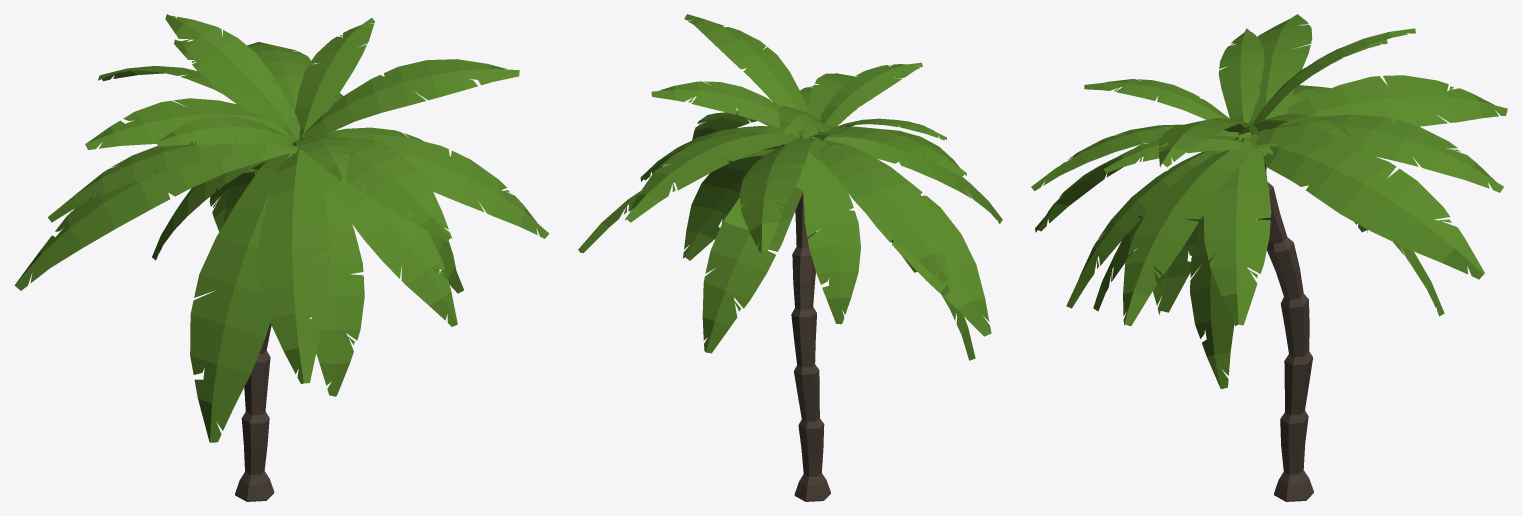
Rendered from Palmera2.fbx.
The picture shows the model from 3 angles, left to right: view 1: azimuth 30°, elevation 25°; view 2: azimuth 150°, elevation 25°; view 3: azimuth 270°, elevation 25°; orthographic projection. The views are drawn at different scales.
Visible parts, largest first — view 1: Palmera2; view 2: Palmera2; view 3: Palmera2.
Part boxes in pixels (<box>): Palmera2: <box>14,14,549,501</box>; Palmera2: <box>578,14,1002,501</box>; Palmera2: <box>1031,14,1507,501</box>.
Bounding box in the file's own units: 1880 × 1854 × 1774.
